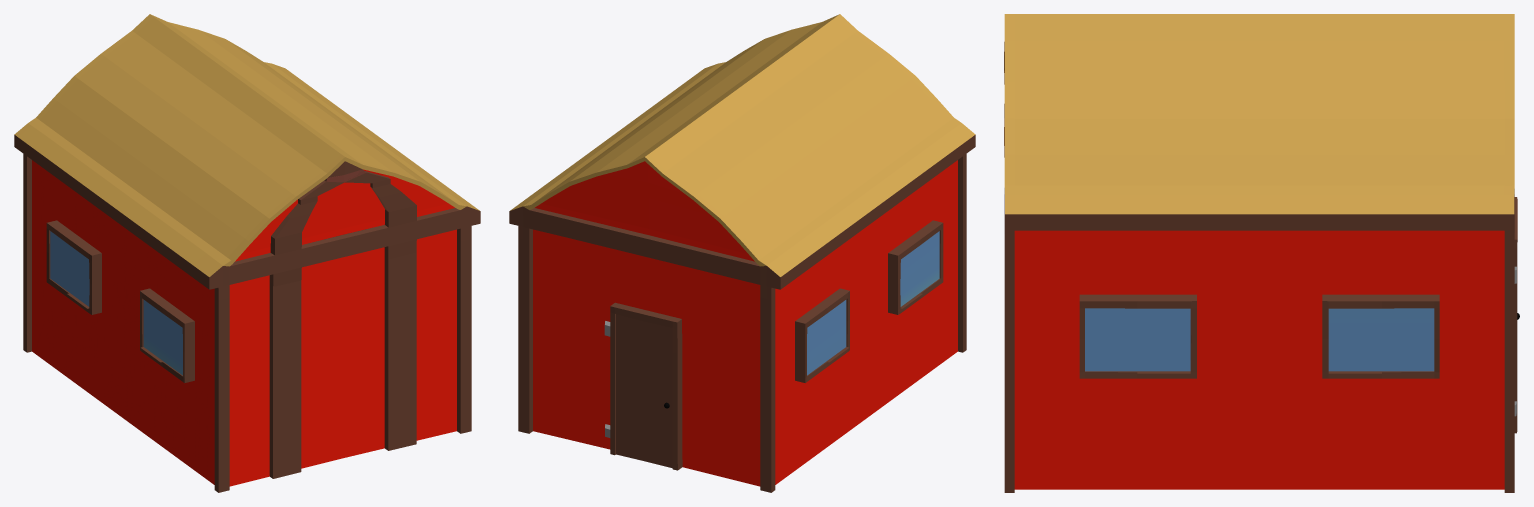
The model's file is house.glb.
3 views of the same model, side by side, from view 1: azimuth 30°, elevation 25°; view 2: azimuth 150°, elevation 25°; view 3: azimuth 270°, elevation 25° (orthographic). The views are drawn at different scales.
Parts seen in each view (by area): view 1: Cube; view 2: Cube; view 3: Cube.
Boxes of the visible parts, x1=… form: Cube: x1=14, y1=14, x2=480, y2=492; Cube: x1=509, y1=14, x2=975, y2=492; Cube: x1=1004, y1=14, x2=1519, y2=492.
Size of the model in its own units: 11.63 by 12.51 by 14.67.
Materials: 1 (1 with a texture image).
